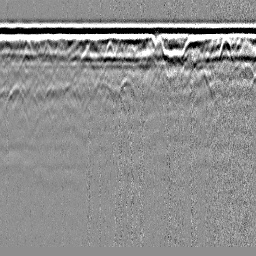cavity: (119, 73, 133, 95)
